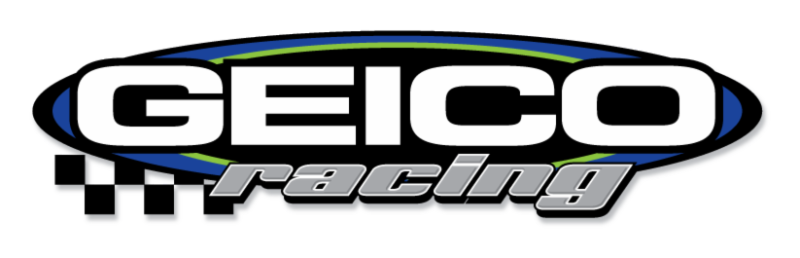Geico: (64, 55, 729, 150)
